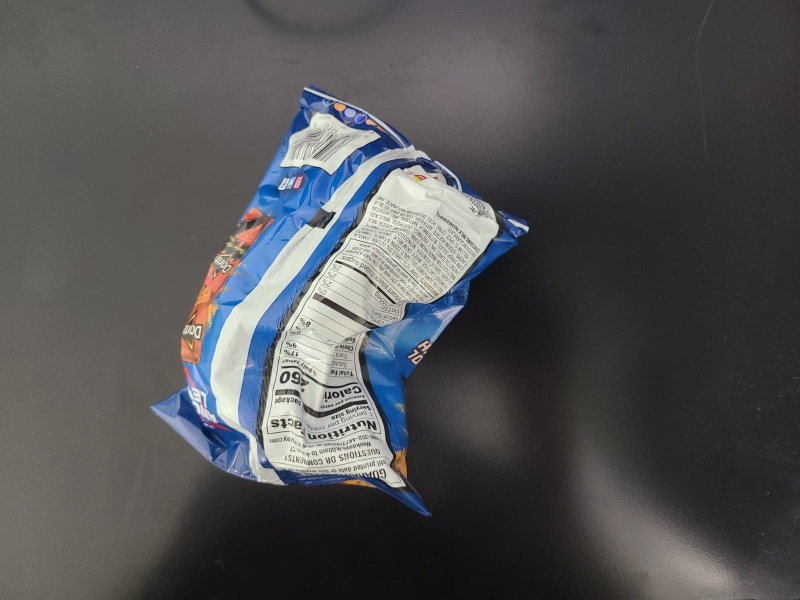doritos: (145, 83, 528, 515)
